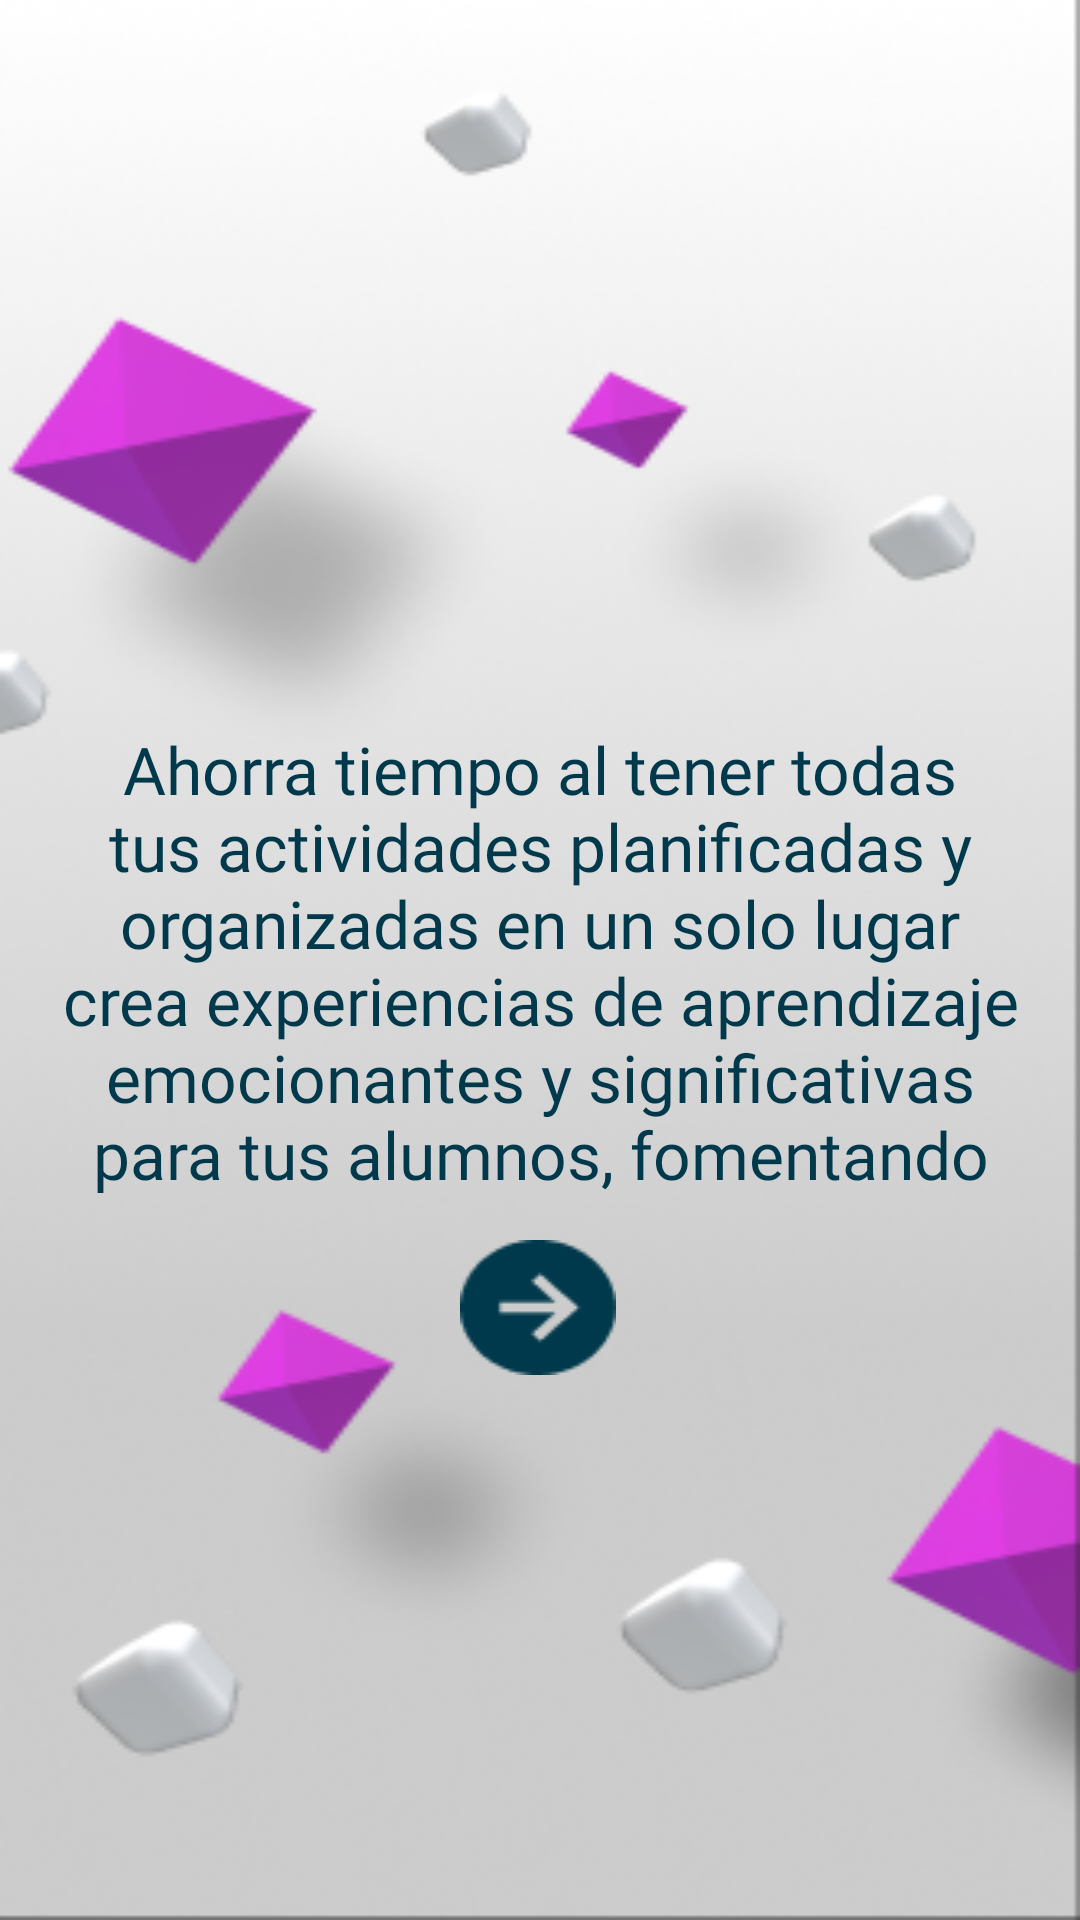

Named icons in this screenshot (1080x1920) and their centers, [x,y]:
next: [538,1307]
